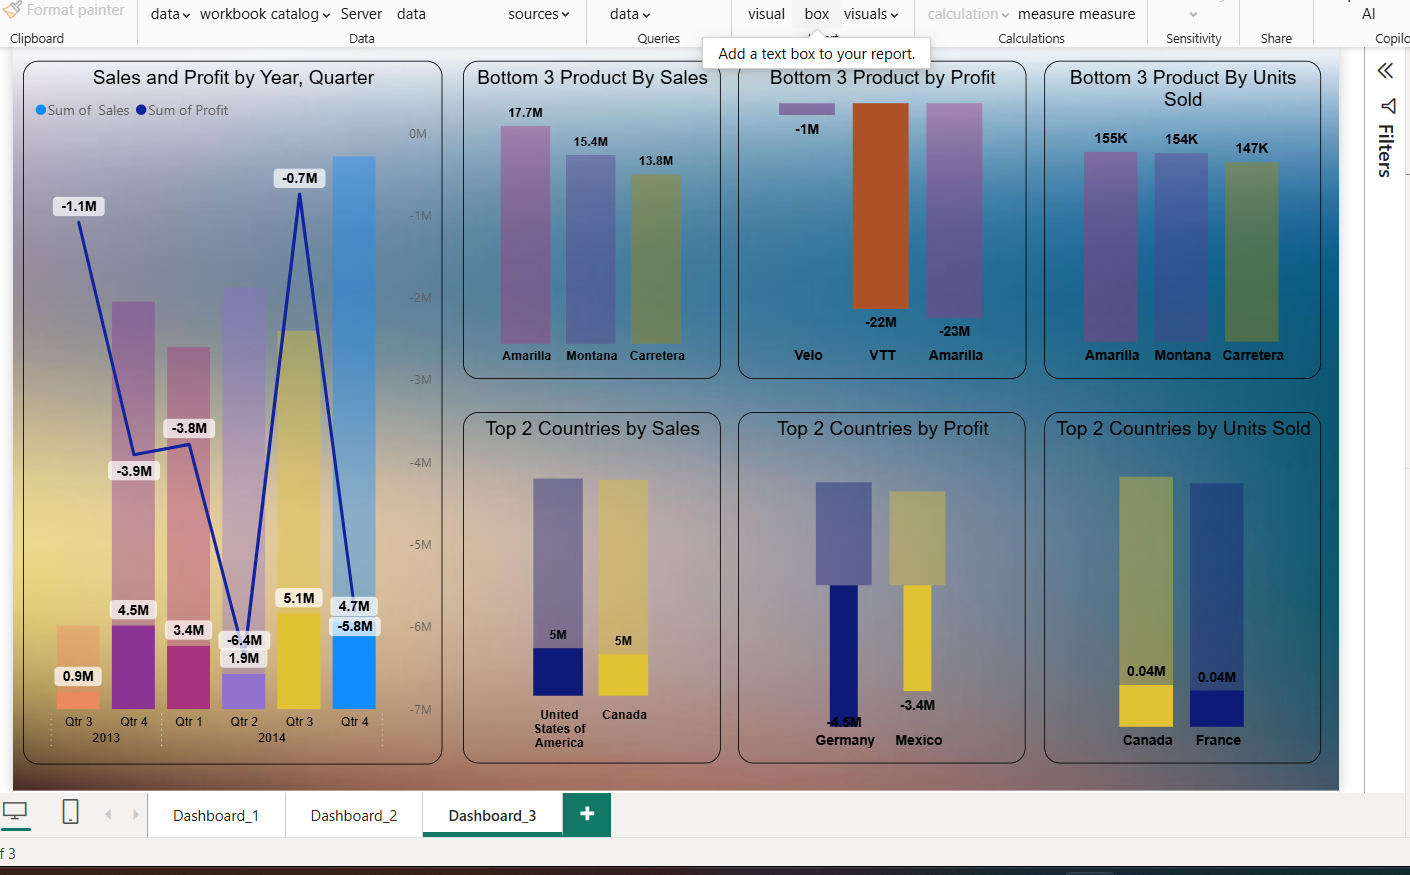

The dashboard page shown, as its layout file describes it:
{"tool":"powerbi","page":{"name":"Dashboard_3","canvas":[1280,720],"ordinal":2},"visuals":[{"type":"lineStackedColumnComboChart","title":" Sales and Profit by Year, Quarter ","fields":{"Y":["Sum(Cleaned_Data. Sales)"],"Y2":["Sum(Cleaned_Data.Profit)"],"Category":["Cleaned_Data.Date.Variation.Date Hierarchy.Year","Cleaned_Data.Date.Variation.Date Hierarchy.Quarter"]},"box":[9.3,12.8,404.7,679.1],"z":0},{"type":"clusteredColumnChart","title":"Top 2 Countries by Sales","fields":{"Category":["Cleaned_Data.Country"],"Y":["Sum(Cleaned_Data. Sales)"]},"box":[433.7,352.3,248.8,339.5],"z":1000},{"type":"clusteredColumnChart","title":"Top 2 Countries by Profit","fields":{"Category":["Cleaned_Data.Country"],"Y":["Sum(Cleaned_Data.Profit)"]},"box":[700,352.3,277.9,339.5],"z":2000},{"type":"clusteredColumnChart","title":"Top 2 Countries by Units Sold","fields":{"Category":["Cleaned_Data.Country"],"Y":["Sum(Cleaned_Data.Units Sold)"]},"box":[995.4,352.3,267.4,339.5],"z":3000},{"type":"clusteredColumnChart","title":"Bottom 3  Product By Sales","fields":{"Category":["Cleaned_Data.Product"],"Y":["Sum(Cleaned_Data. Sales)"]},"box":[433.7,12.8,248.8,307],"z":4000},{"type":"clusteredColumnChart","title":"Bottom 3 Product by Profit","fields":{"Category":["Cleaned_Data.Product"],"Y":["Sum(Cleaned_Data.Profit)"]},"box":[700,13,278,307],"z":5000},{"type":"clusteredColumnChart","title":"Bottom 3 Product By Units Sold","fields":{"Category":["Cleaned_Data.Product"],"Y":["Sum(Cleaned_Data.Units Sold)"]},"box":[995,13,267,307],"z":6000}]}

Visuals, with their boxes on the page's 1280x720 design canvas (x1, y1, x2, y2). These are canvas units, not pixel positions in the 1410x875 screenshot, which may show the page scaled, cropped or inside an application window:
" Sales and Profit by Year, Quarter " lineStackedColumnComboChart: detection(9, 13, 414, 692)
"Top 2 Countries by Sales" clusteredColumnChart: detection(434, 352, 682, 692)
"Top 2 Countries by Profit" clusteredColumnChart: detection(700, 352, 978, 692)
"Top 2 Countries by Units Sold" clusteredColumnChart: detection(995, 352, 1263, 692)
"Bottom 3  Product By Sales" clusteredColumnChart: detection(434, 13, 682, 320)
"Bottom 3 Product by Profit" clusteredColumnChart: detection(700, 13, 978, 320)
"Bottom 3 Product By Units Sold" clusteredColumnChart: detection(995, 13, 1262, 320)
